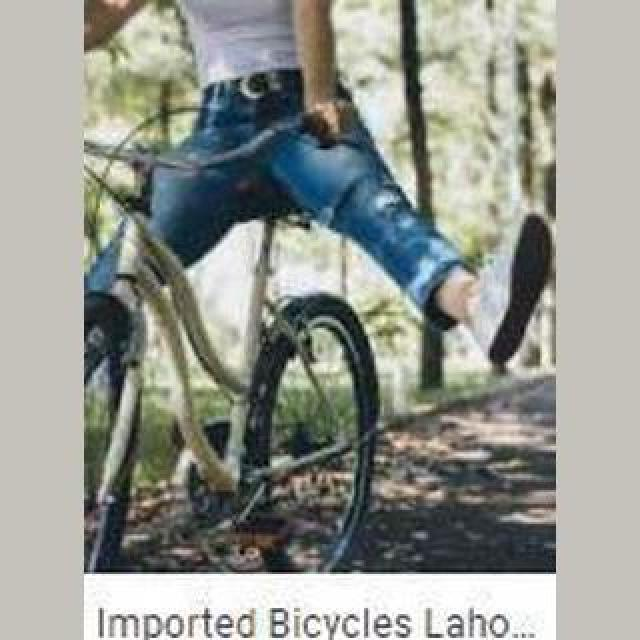MC-Bike: (144, 0, 552, 264)
Person: (85, 120, 375, 572)
